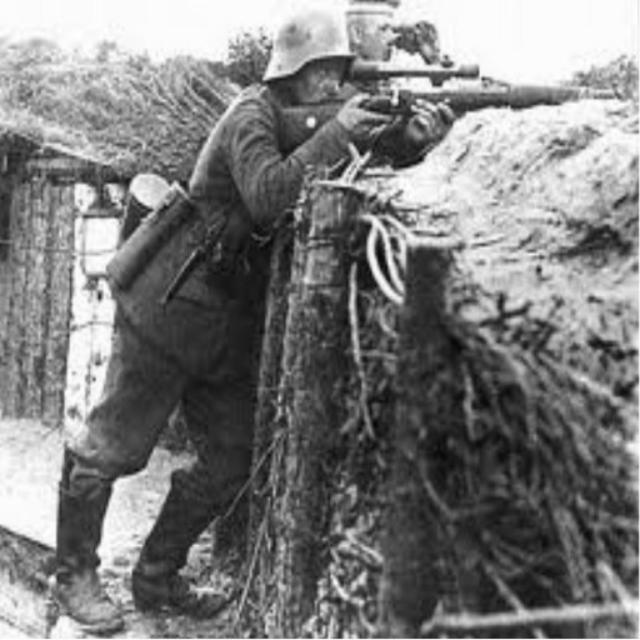other: (60, 21, 358, 613), (341, 0, 409, 58)
